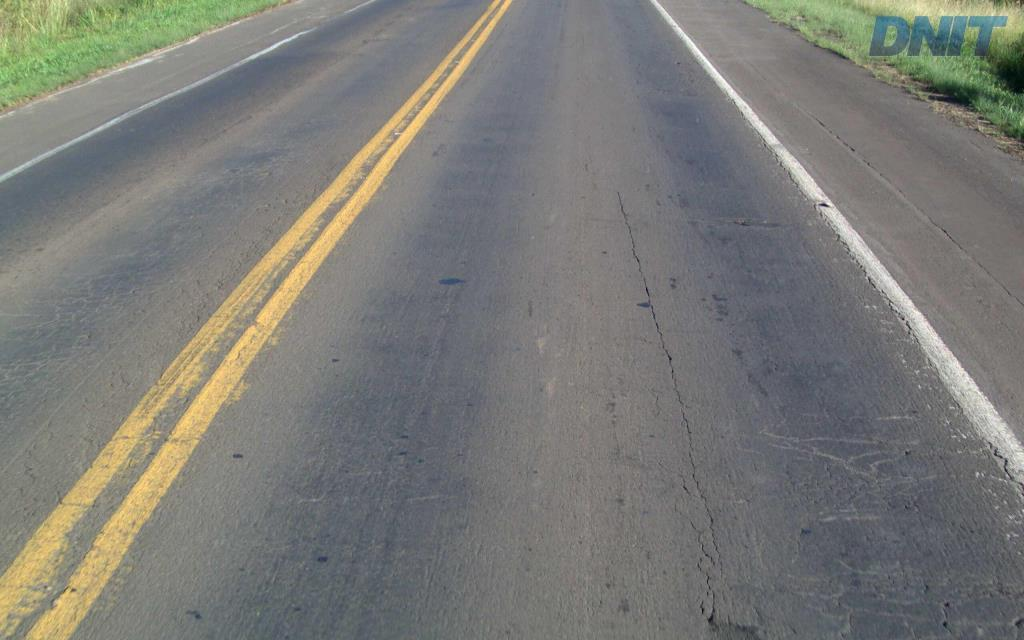crack: (636, 277, 683, 405), (688, 451, 723, 599), (706, 601, 761, 639)
